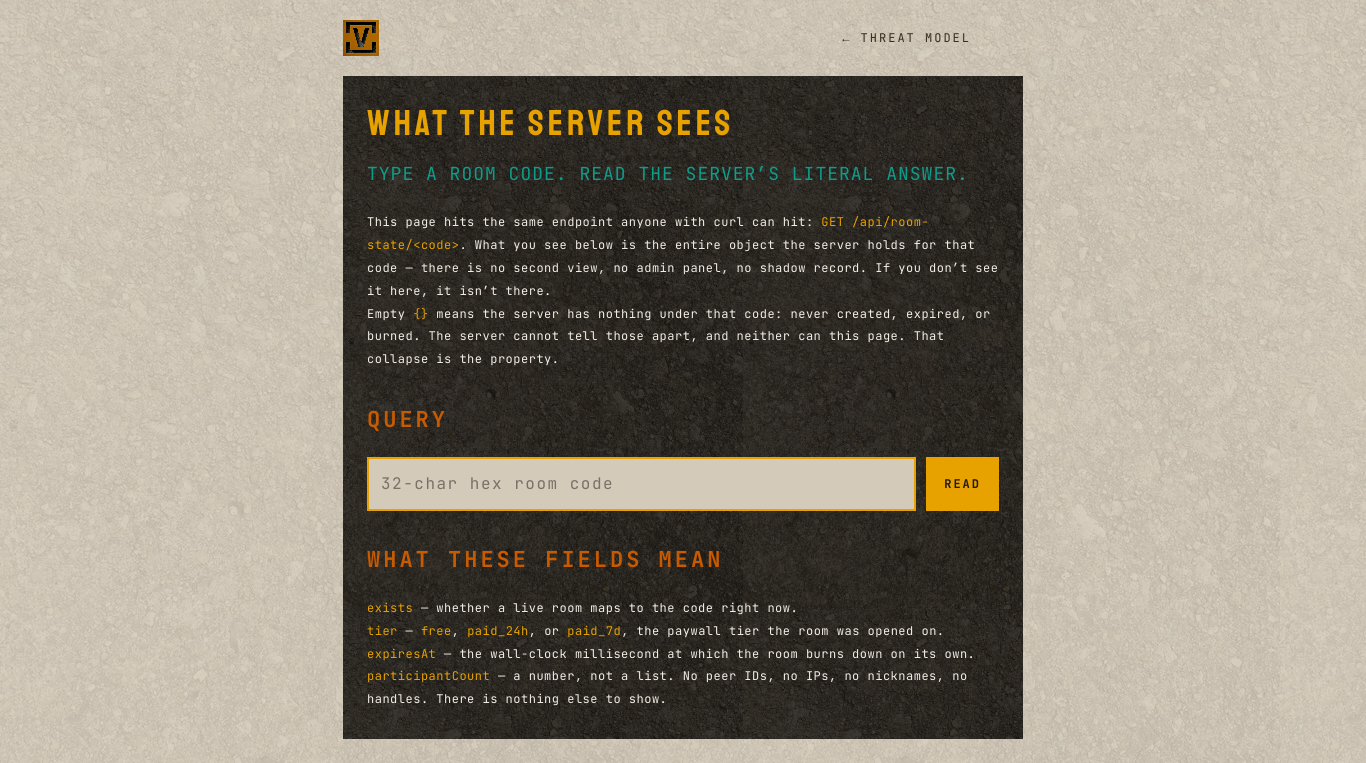
Test: ServerStateProofPage › loud-fails on network errors
Step 1. Type "0123456789abcdef0123456789abcdef" into the field with test id "server-state-input" → (642, 484), box x1=367 y1=457 x2=916 y2=511
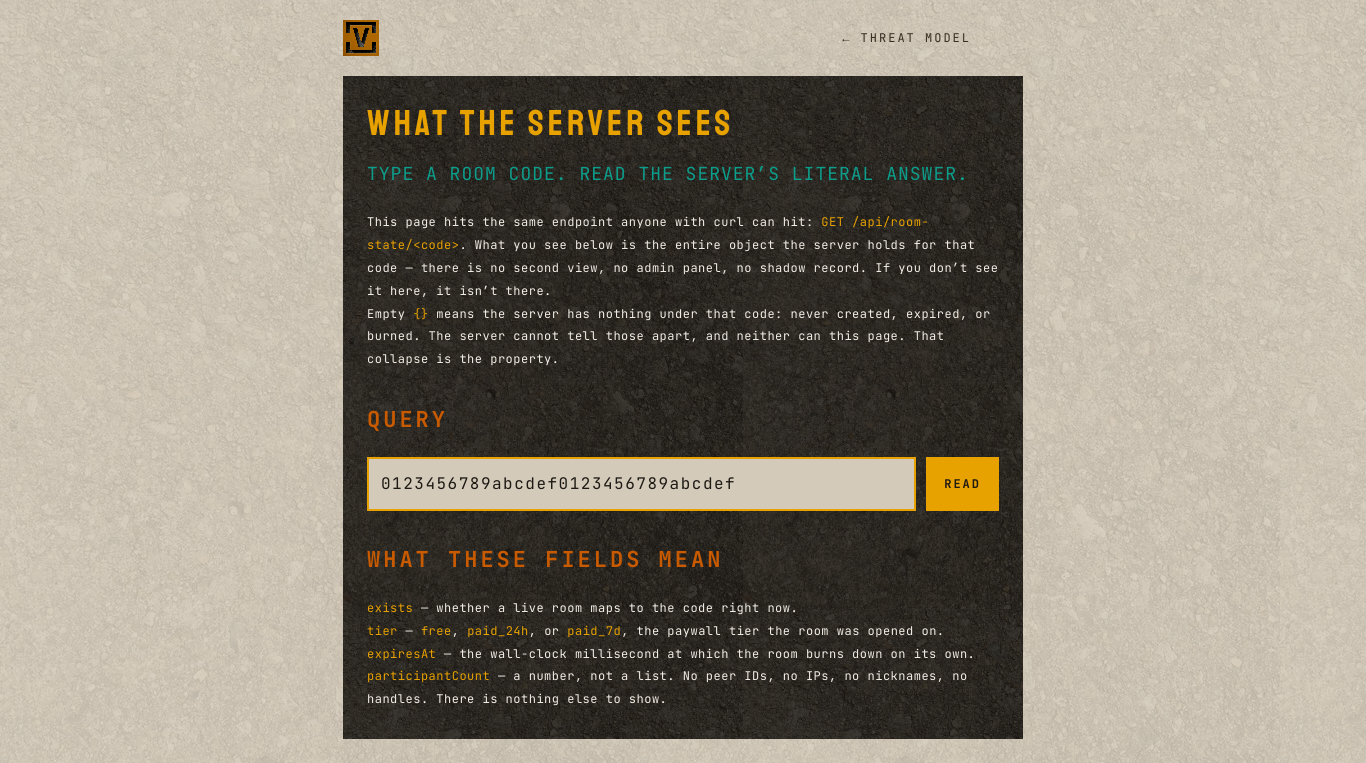
Step 2. Click the button with test id "server-state-submit" → (963, 484), box x1=926 y1=457 x2=999 y2=511
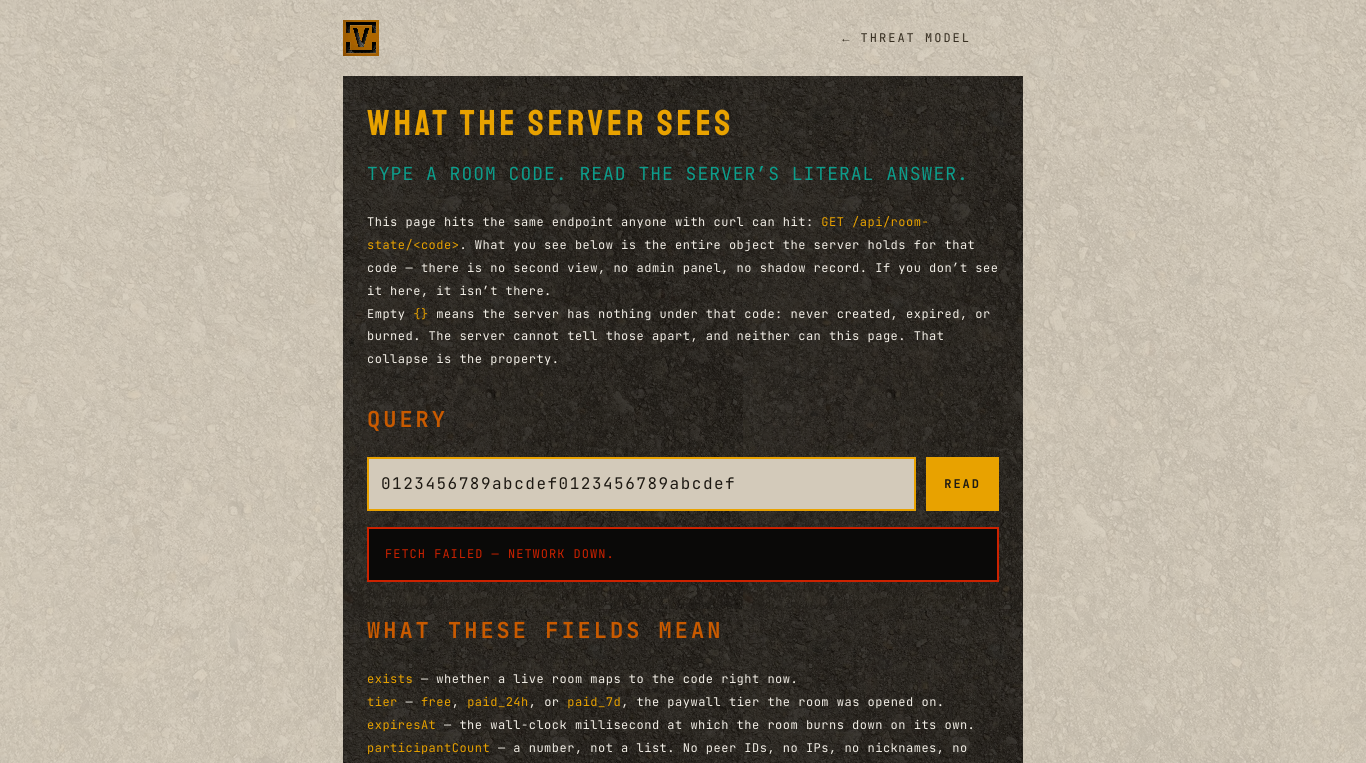
Check: the text "FETCH FAILED — network down." is shown, box x1=367 y1=527 x2=999 y2=582
Check: the text with test id "server-state-error" shows "FETCH FAILED", box x1=385 y1=546 x2=615 y2=562
